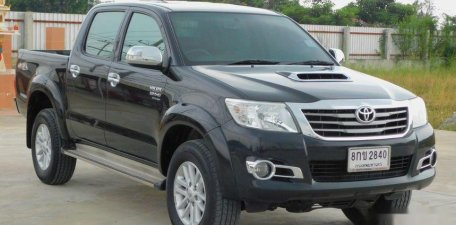pickup: (14, 2, 439, 225)
